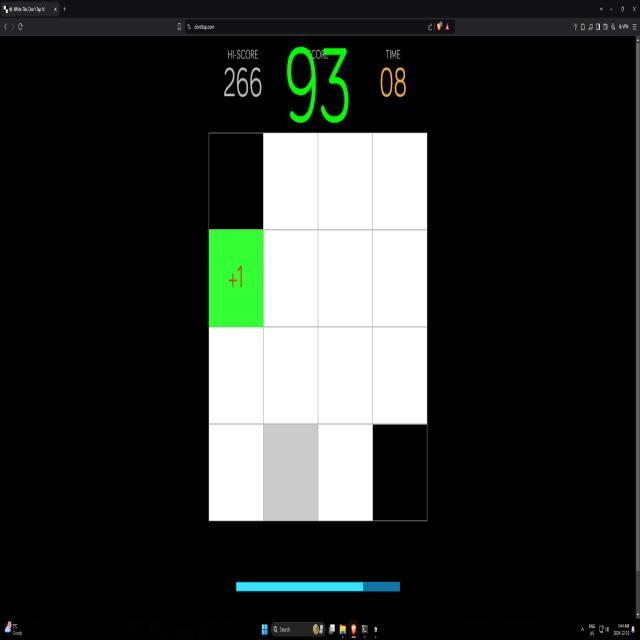black-tile: (371, 421, 428, 522), (208, 131, 264, 232)
